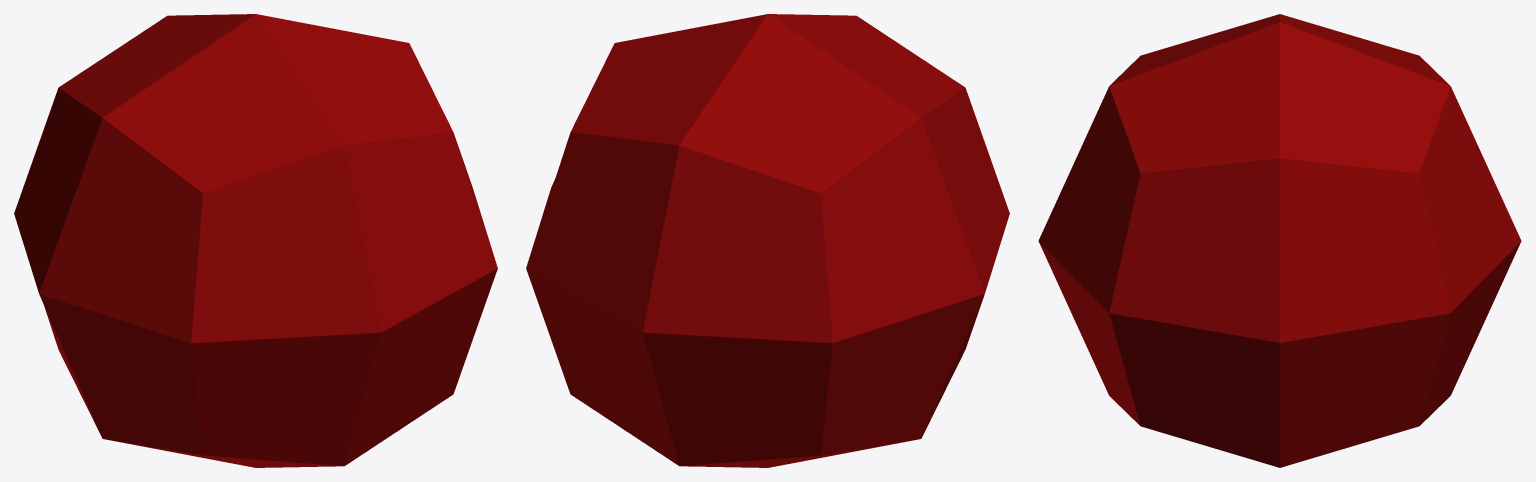
Rendered from Ball.fbx.
3 views of the same model, side by side, from view 1: azimuth 30°, elevation 25°; view 2: azimuth 150°, elevation 25°; view 3: azimuth 270°, elevation 25° (orthographic). The views are drawn at different scales.
Parts seen in each view (by area): view 1: Cube; view 2: Cube; view 3: Cube.
Part boxes in pixels (box(x1,y1,x2,y2)): Cube: box(14, 14, 497, 467); Cube: box(526, 14, 1009, 467); Cube: box(1038, 14, 1521, 467).
Size of the model in its own units: 283 by 283 by 283.
